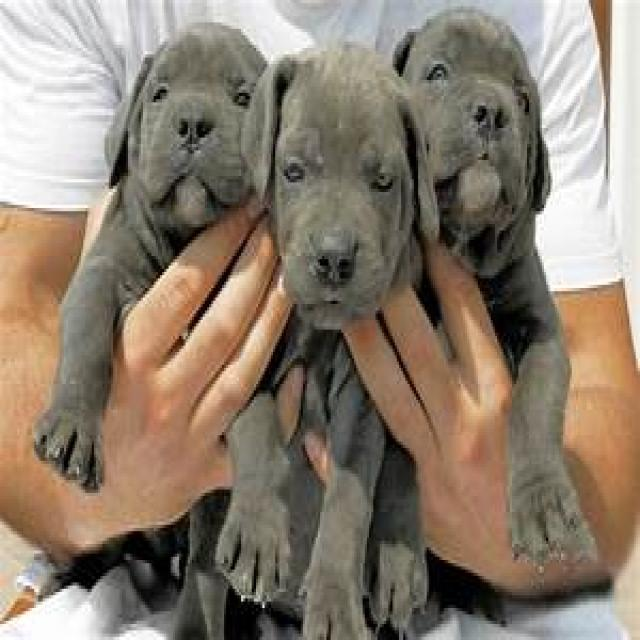dog: (393, 6, 602, 595), (36, 22, 269, 490), (241, 45, 437, 336)
